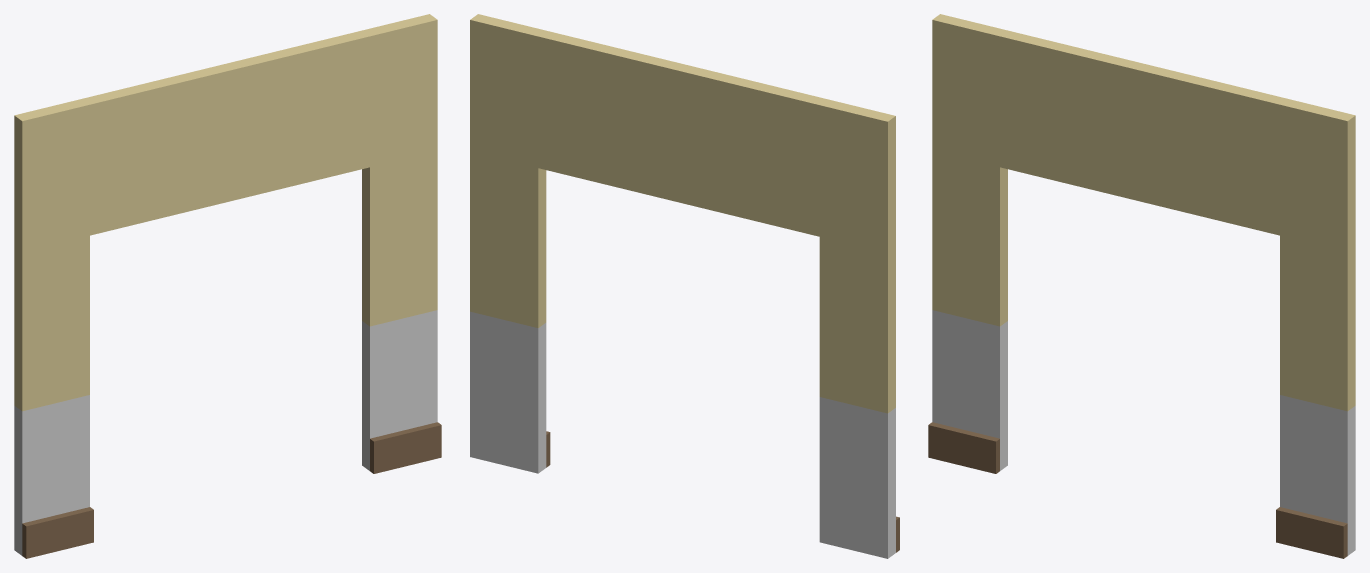
The model's file is Mesh_WallBaseboard2Colors_I4.fbx.
The picture shows the model from 3 angles, left to right: view 1: azimuth 30°, elevation 25°; view 2: azimuth 150°, elevation 25°; view 3: azimuth 330°, elevation 25°; orthographic projection.
Parts seen in each view (by area): view 1: Mesh_WallBaseboard2Colors_I4; view 2: Mesh_WallBaseboard2Colors_I4; view 3: Mesh_WallBaseboard2Colors_I4.
Boxes of the visible parts, box(x1,y1,x2,y2) form: Mesh_WallBaseboard2Colors_I4: box(14, 14, 441, 558); Mesh_WallBaseboard2Colors_I4: box(470, 14, 899, 558); Mesh_WallBaseboard2Colors_I4: box(928, 14, 1355, 558).
Bounding box in the file's own units: 3 × 3 × 0.15.
